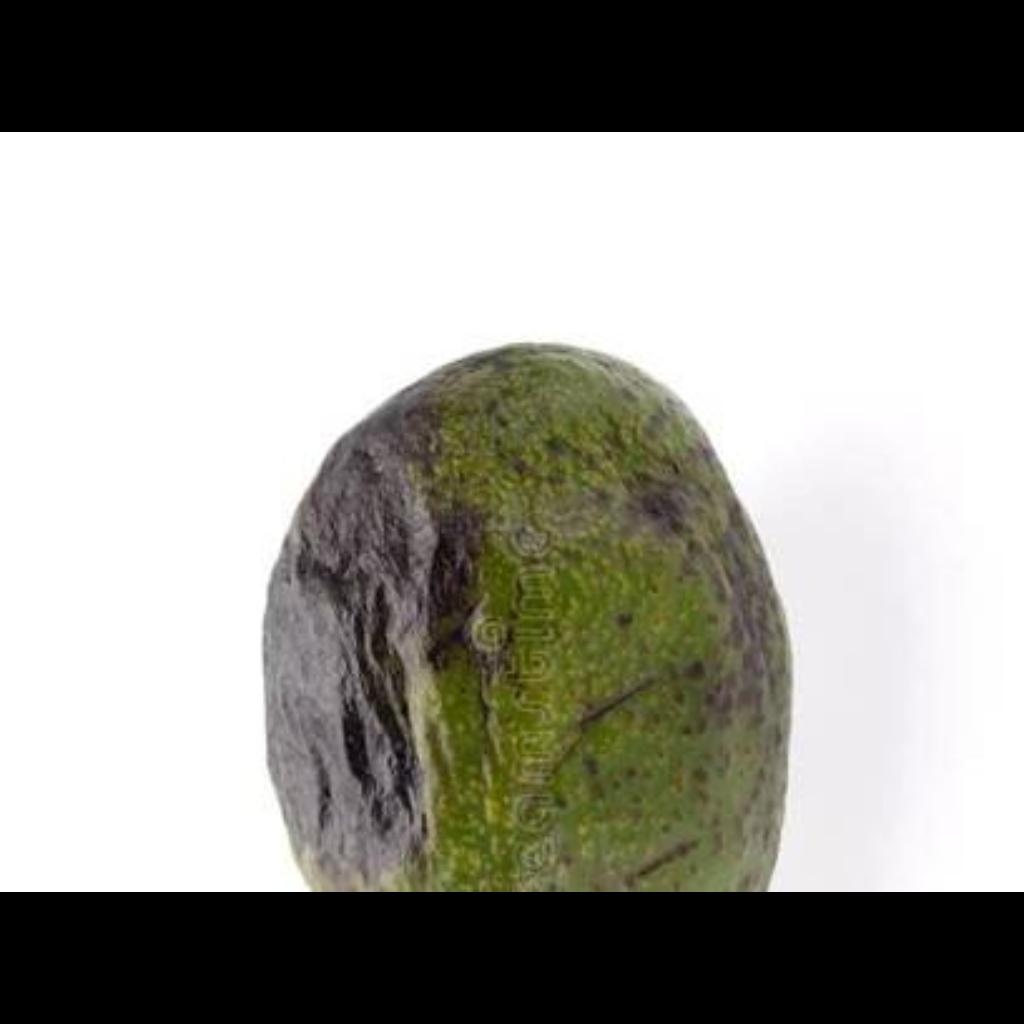Anthracnose: (263, 343, 793, 893)
